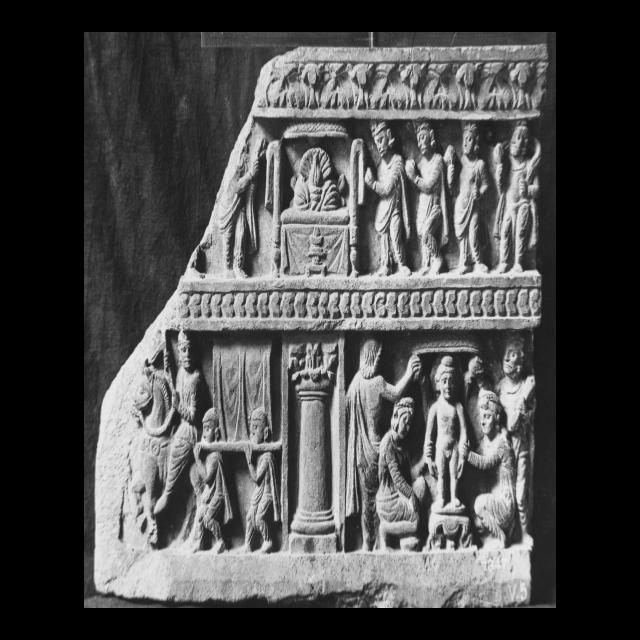buddha-horse-riding: (129, 331, 204, 547)
buddha-standing: (424, 356, 468, 509)
